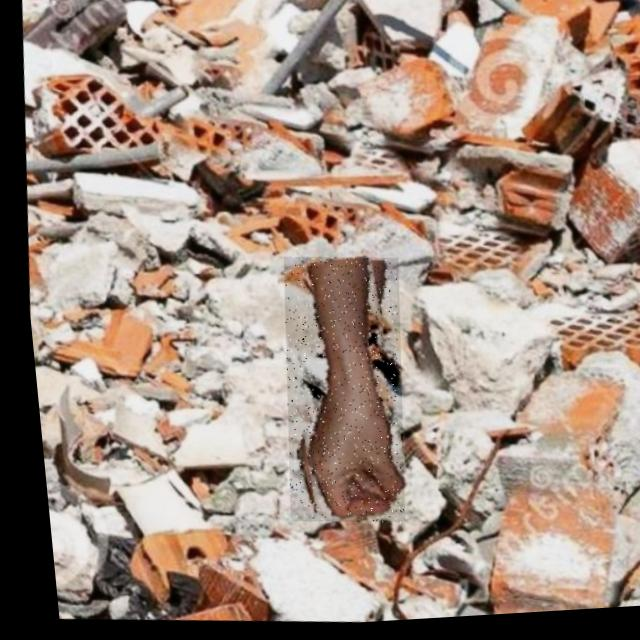Person in Rubble: (260, 254, 412, 531)
